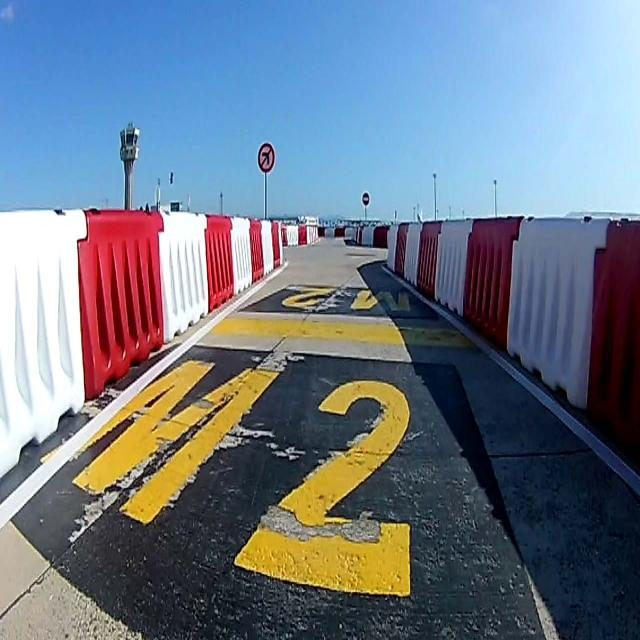soladonulmez: (257, 143, 275, 172)
